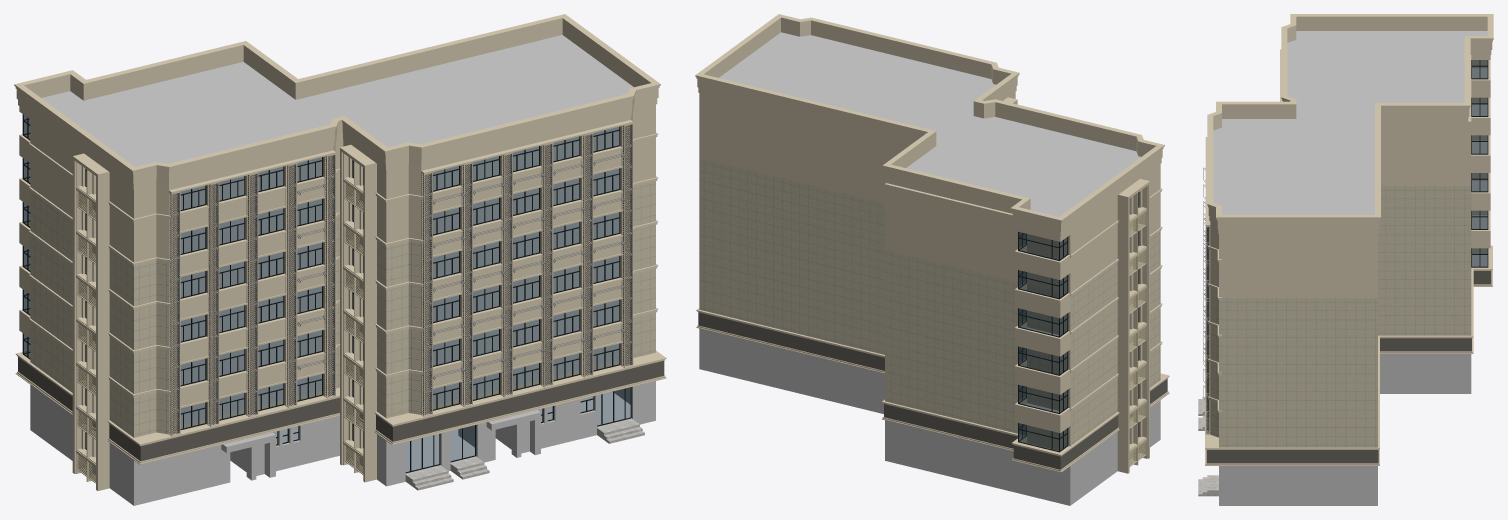
File: lou123.FBX
3 renders of one model, left to right at view 1: azimuth 30°, elevation 25°; view 2: azimuth 150°, elevation 25°; view 3: azimuth 270°, elevation 25°, orthographic. The views are drawn at different scales.
Parts seen in each view (by area): view 1: lou123; view 2: lou123; view 3: lou123.
Part boxes in pixels (<box>): lou123: <box>14,14,666,505</box>; lou123: <box>695,14,1169,505</box>; lou123: <box>1198,14,1493,505</box>.
Size of the model in its own units: 33051 by 21550 by 19903.
